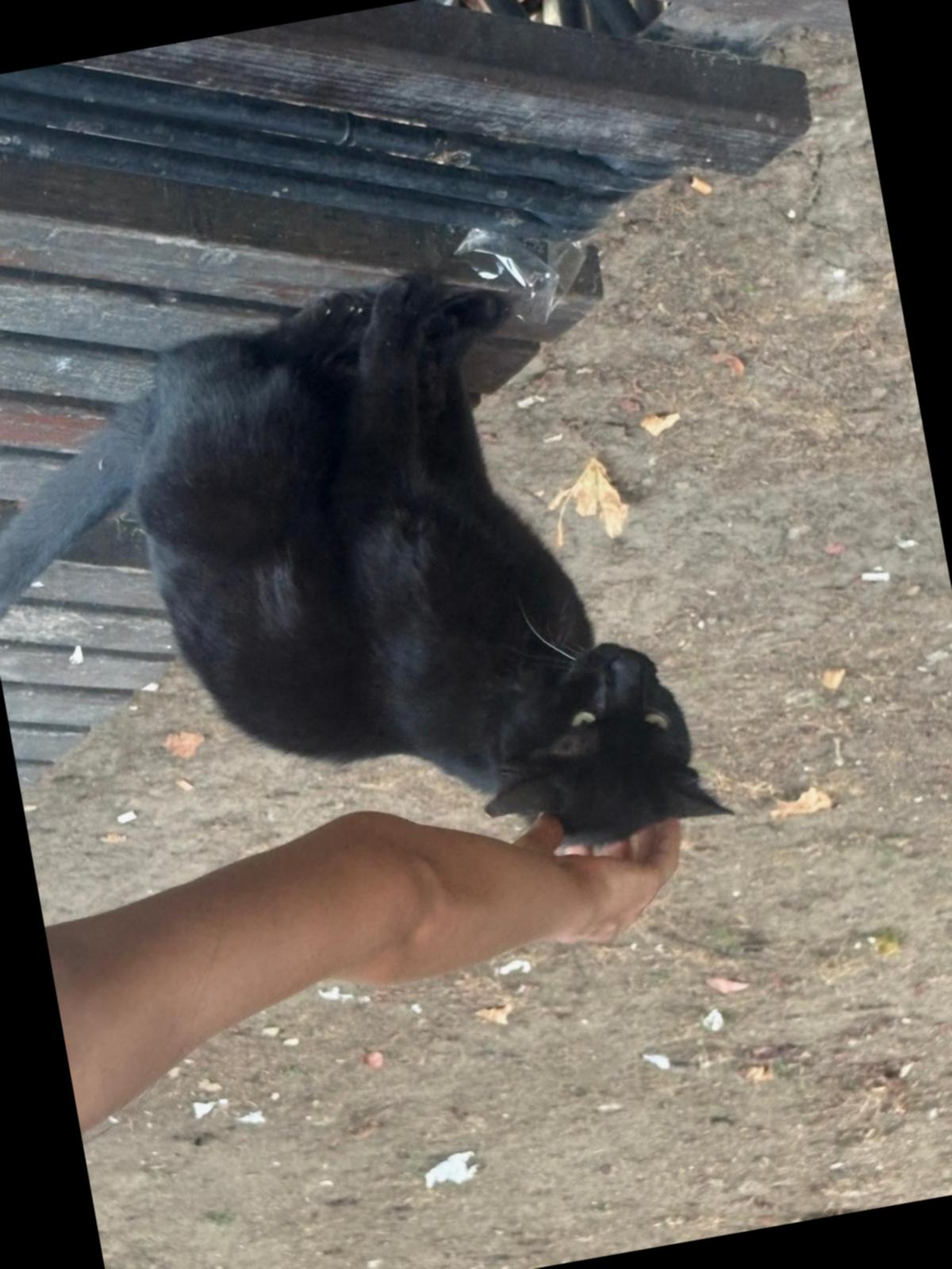macka: (0, 230, 741, 945)
